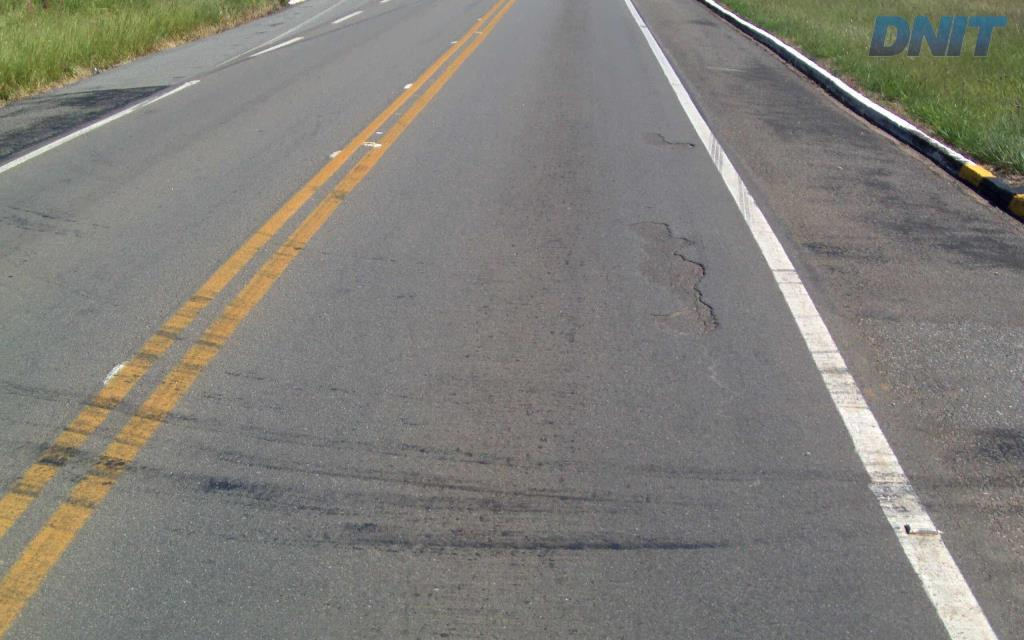pothole: (623, 216, 725, 339), (638, 128, 701, 152)
